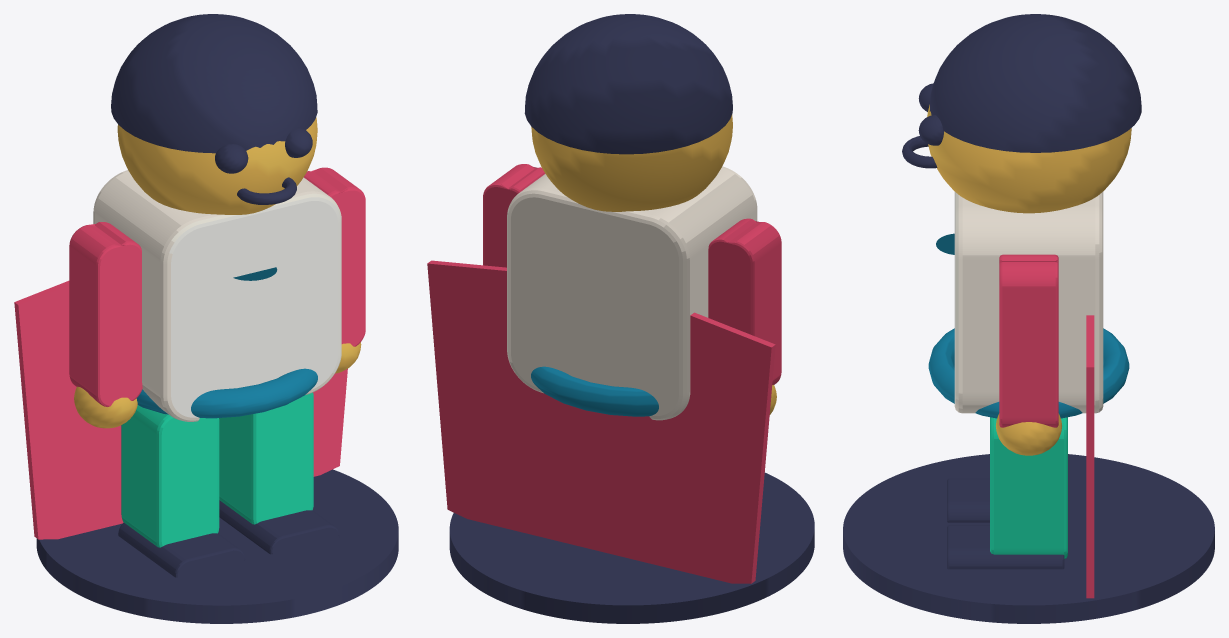
File: 0705_《史记》_魏无忌.glb
The picture shows the model from 3 angles, left to right: view 1: azimuth 30°, elevation 25°; view 2: azimuth 150°, elevation 25°; view 3: azimuth 270°, elevation 25°; orthographic projection.
Visible parts, largest first — view 1: card_0705; view 2: card_0705; view 3: card_0705.
Boxes of the visible parts, x1,y1,x2,y2 form: card_0705: (14,14,398,623); card_0705: (427,14,814,623); card_0705: (843,14,1214,623).
Size of the model in its own units: 0.6739 by 1 by 0.6307.
